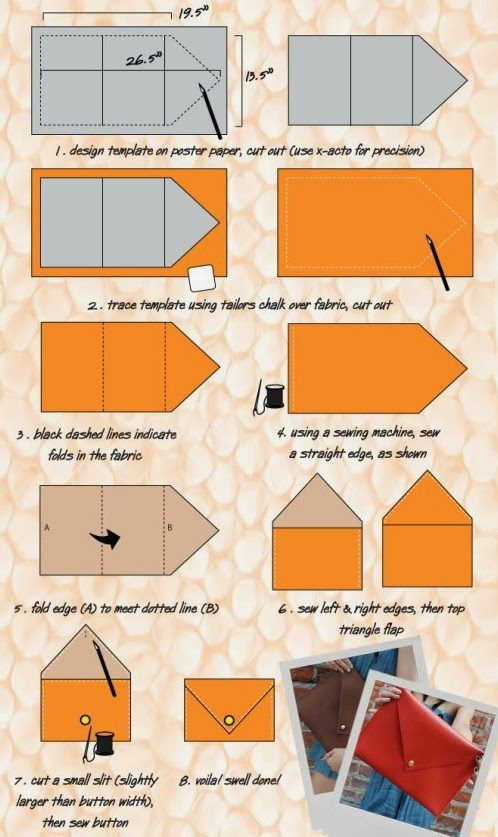cuero: (298, 660, 486, 821)
